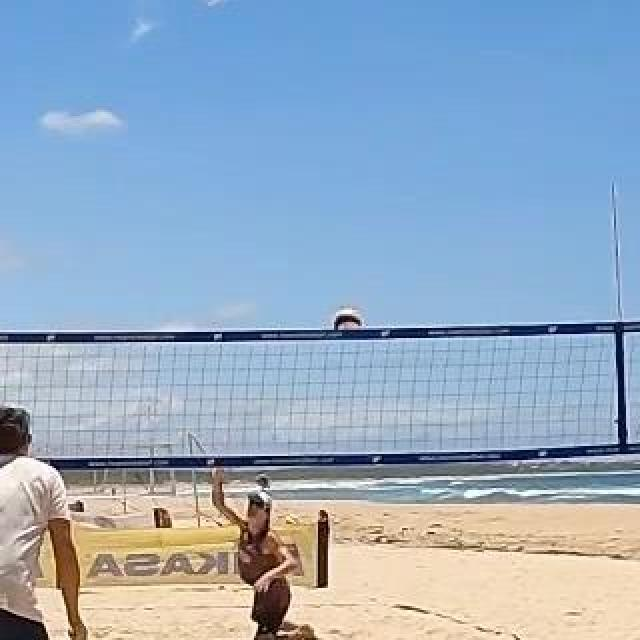volleyball: (331, 308, 363, 338)
